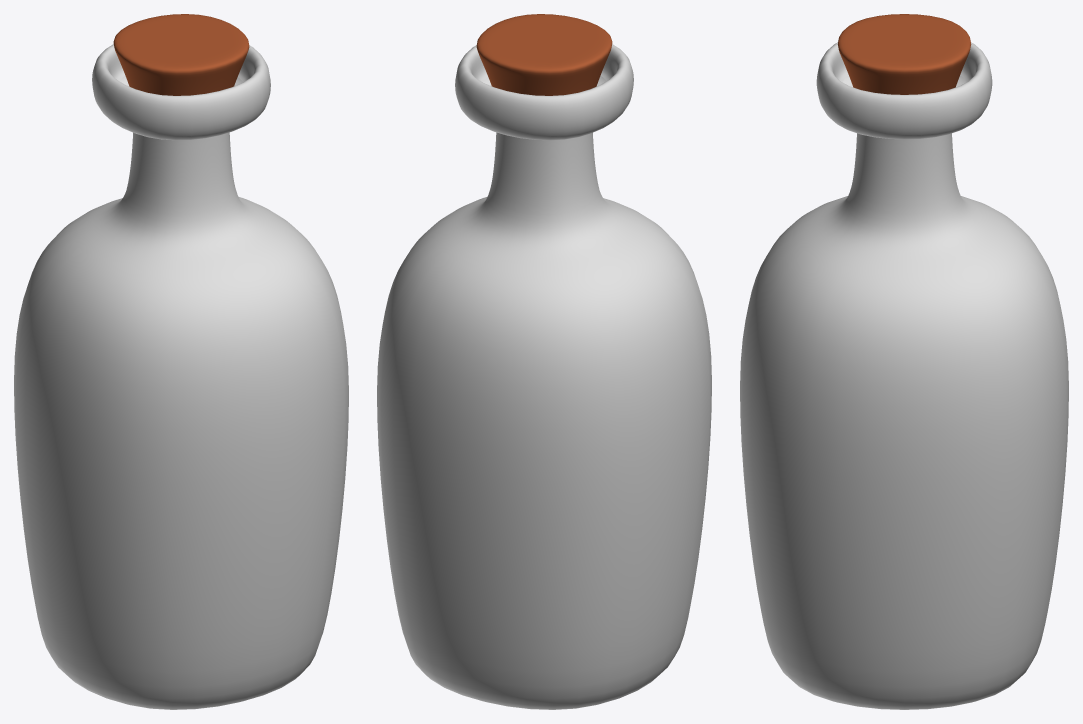
File: testbottle.fbx
The picture shows the model from 3 angles, left to right: view 1: azimuth 30°, elevation 25°; view 2: azimuth 150°, elevation 25°; view 3: azimuth 270°, elevation 25°; orthographic projection.
Visible parts, largest first — view 1: Cube, Cube.001; view 2: Cube, Cube.001; view 3: Cube, Cube.001.
Boxes of the visible parts, x1,y1,x2,y2 form: Cube: (14,44,348,709); Cube.001: (113,14,249,95); Cube: (377,44,711,709); Cube.001: (476,14,612,95); Cube: (740,42,1068,709); Cube.001: (837,14,971,94).
Size of the model in its own units: 471 by 984 by 471.
